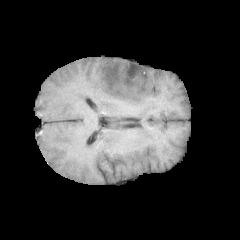glioma: (96, 59, 156, 103)
